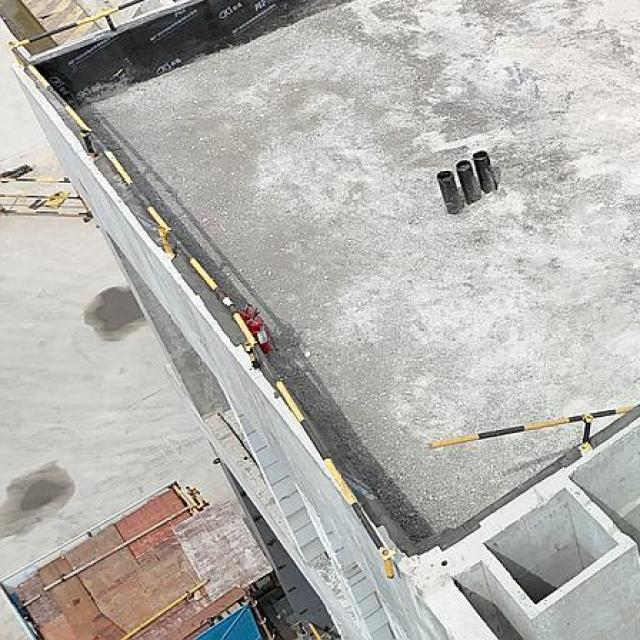edge_guardrail: (5, 0, 395, 581), (426, 406, 637, 450)
